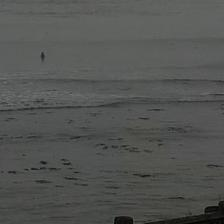surfer: (41, 52, 46, 59)
